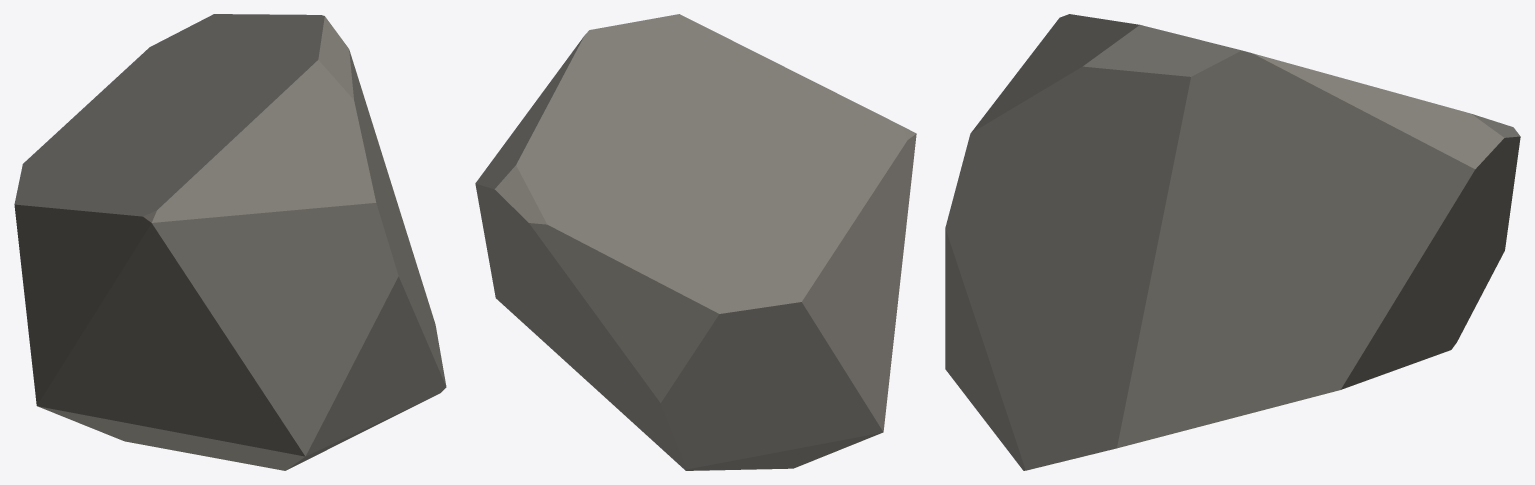
The model's file is rock_05.fbx.
3 renders of one model, left to right at view 1: azimuth 30°, elevation 25°; view 2: azimuth 150°, elevation 25°; view 3: azimuth 270°, elevation 25°, orthographic. The views are drawn at different scales.
Parts seen in each view (by area): view 1: rock_05; view 2: rock_05; view 3: rock_05.
Part boxes in pixels (<box>): rock_05: <box>14,14,446,470</box>; rock_05: <box>475,14,916,470</box>; rock_05: <box>945,14,1520,470</box>.
Size of the model in its own units: 47.74 by 49.47 by 54.38.
1 material, 1 textured.
